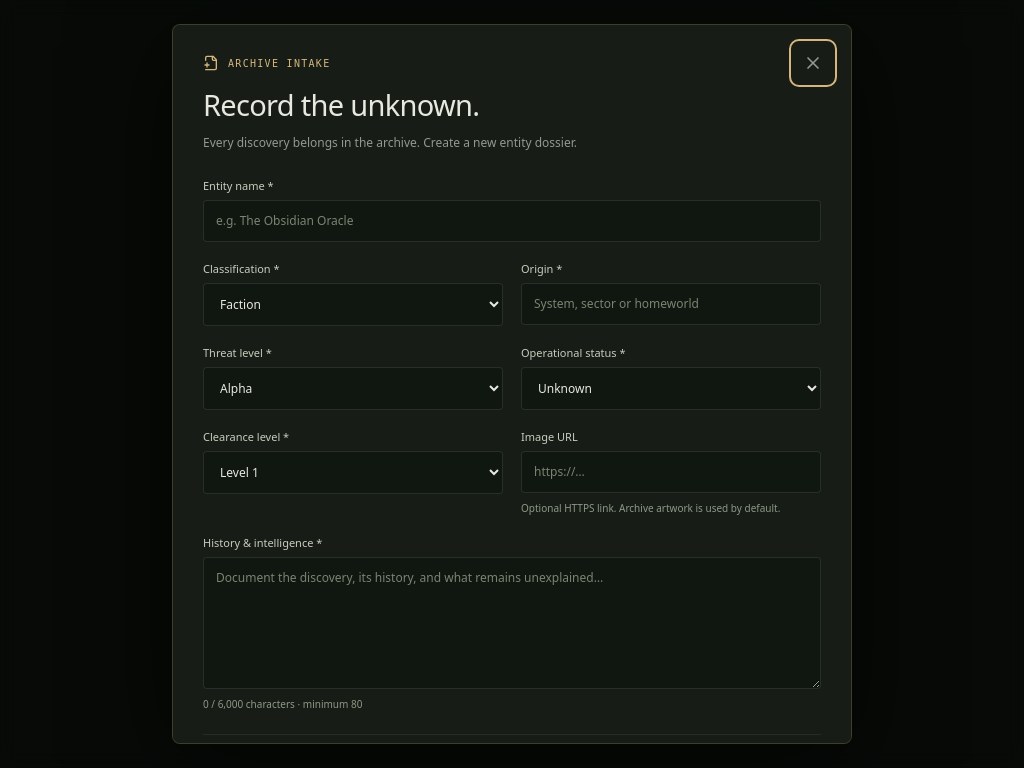
Test: controlled dossier form › submits controlled values and exposes server errors without losing the draft
The image size is (1024, 768).
Type "The Far Observatory" into the field labelled "Entity name *".
click(512, 221); type("The Far Observatory")  # box top-left (203, 200), bottom-right (821, 242)
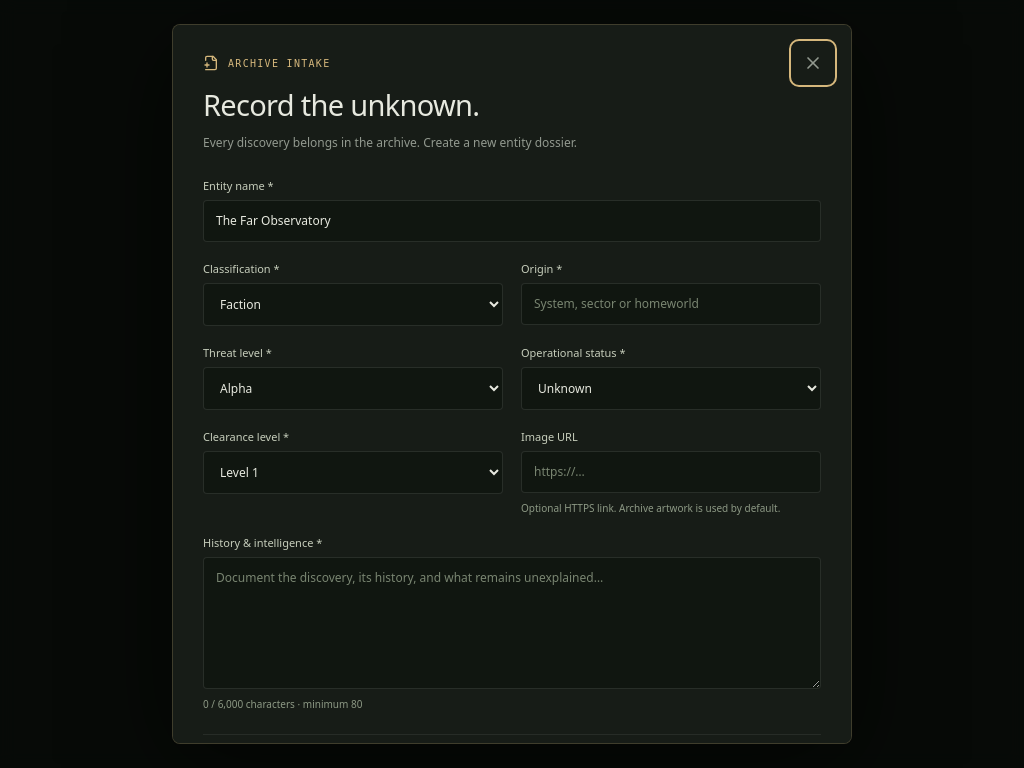
Type "Outer Veil" into the field labelled "Origin *".
click(671, 304); type("Outer Veil")  # box top-left (521, 283), bottom-right (821, 325)
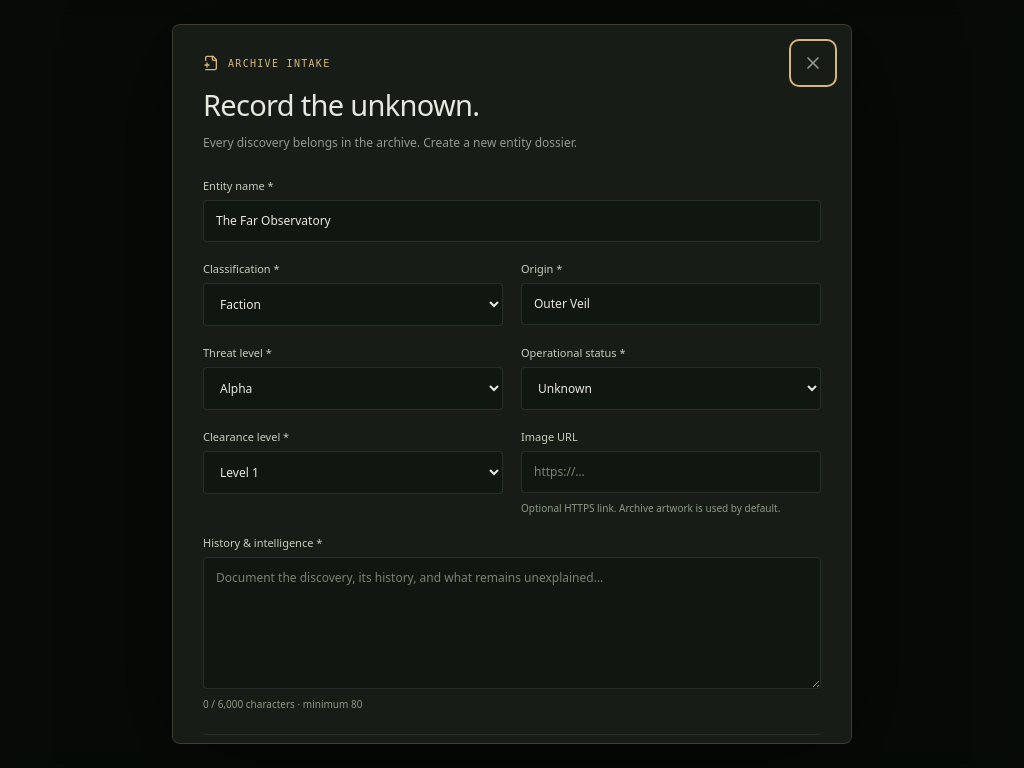
Replace the text in the text box labelled "History & intelligence *" with "An observatory at the edge of known space receives signals from a star that vanished many centuries before its construction." at (512, 623), box top-left (203, 557), bottom-right (821, 689)
(page scrolled)
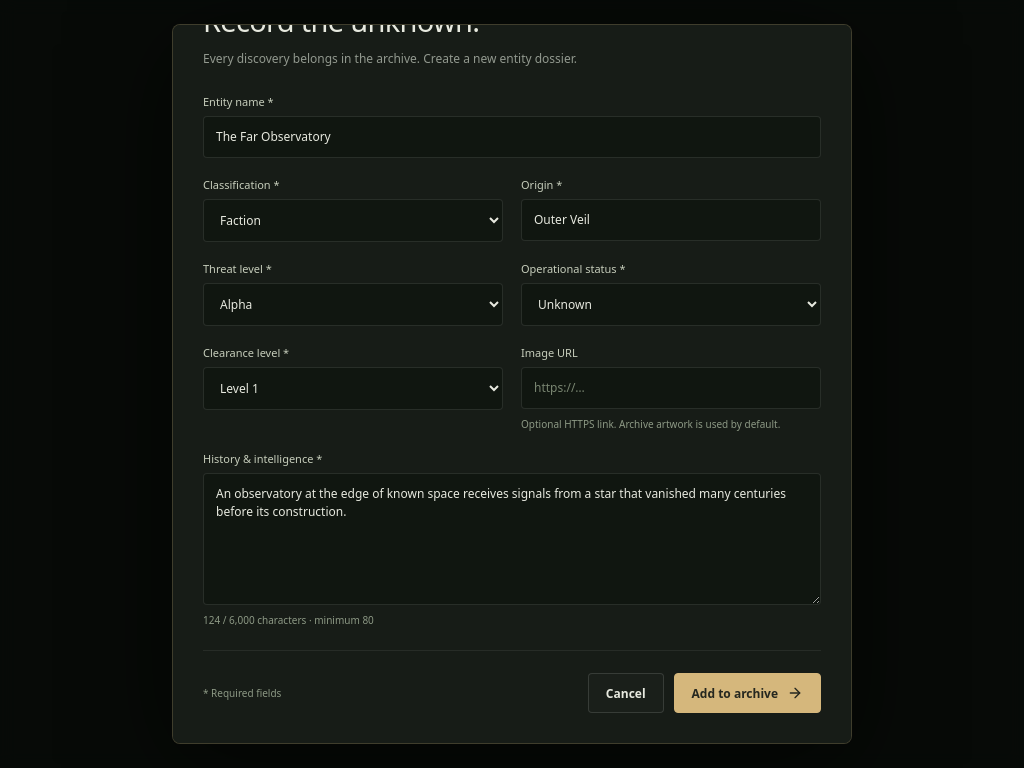
Click the button "Add to archive".
click(747, 693)  # box top-left (674, 673), bottom-right (821, 713)
(page scrolled)
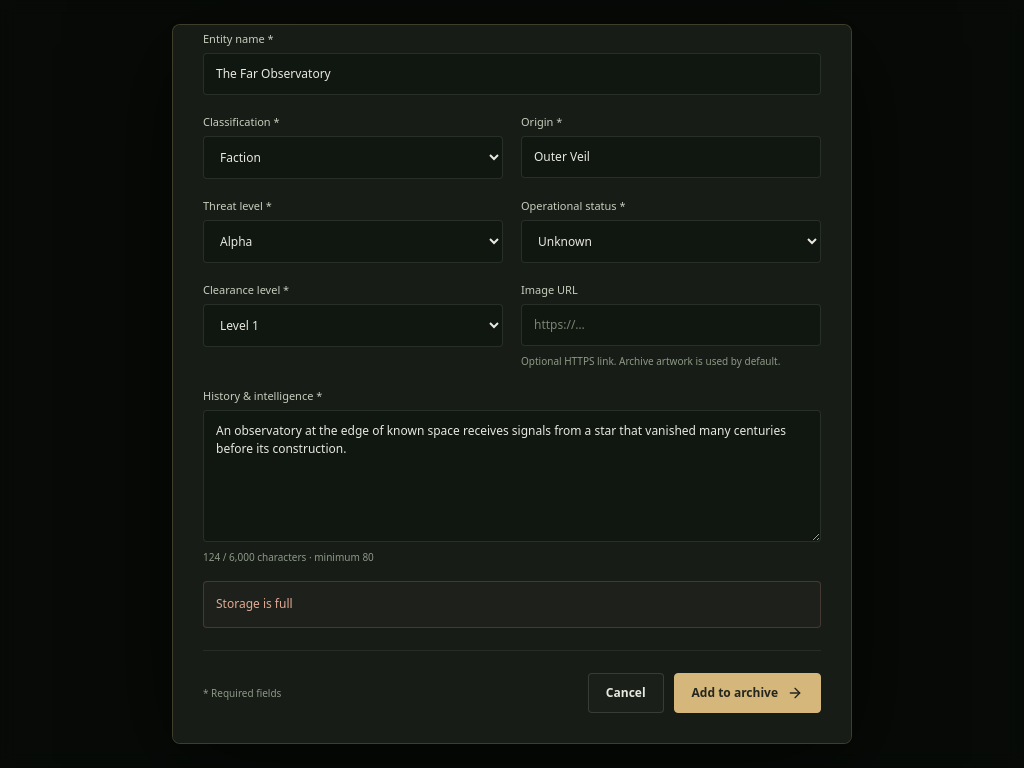
expect the button "Add to archive" is enabled: met, box top-left (674, 673), bottom-right (821, 713)
expect the message reads "Storage is full": met, box top-left (216, 595), bottom-right (293, 612)
